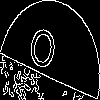O: (25, 25, 59, 81)
